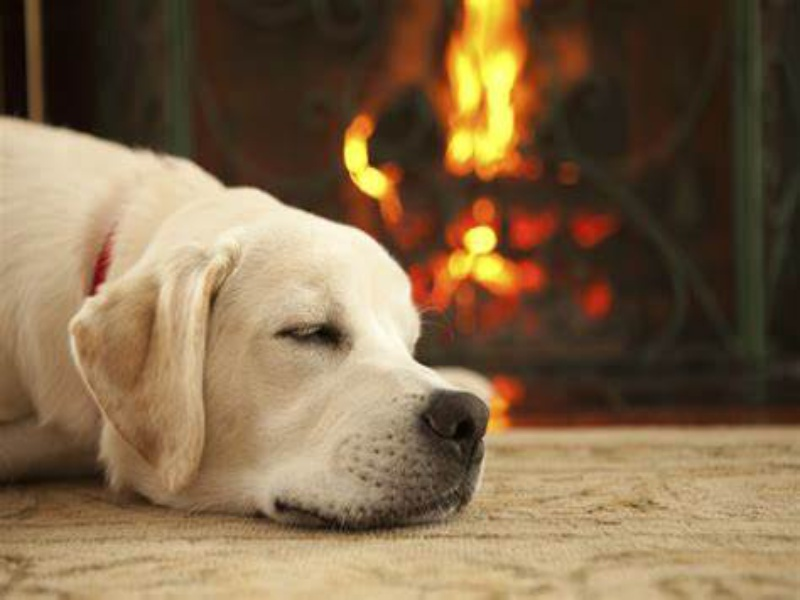fire: (446, 1, 529, 168), (339, 114, 392, 200)
